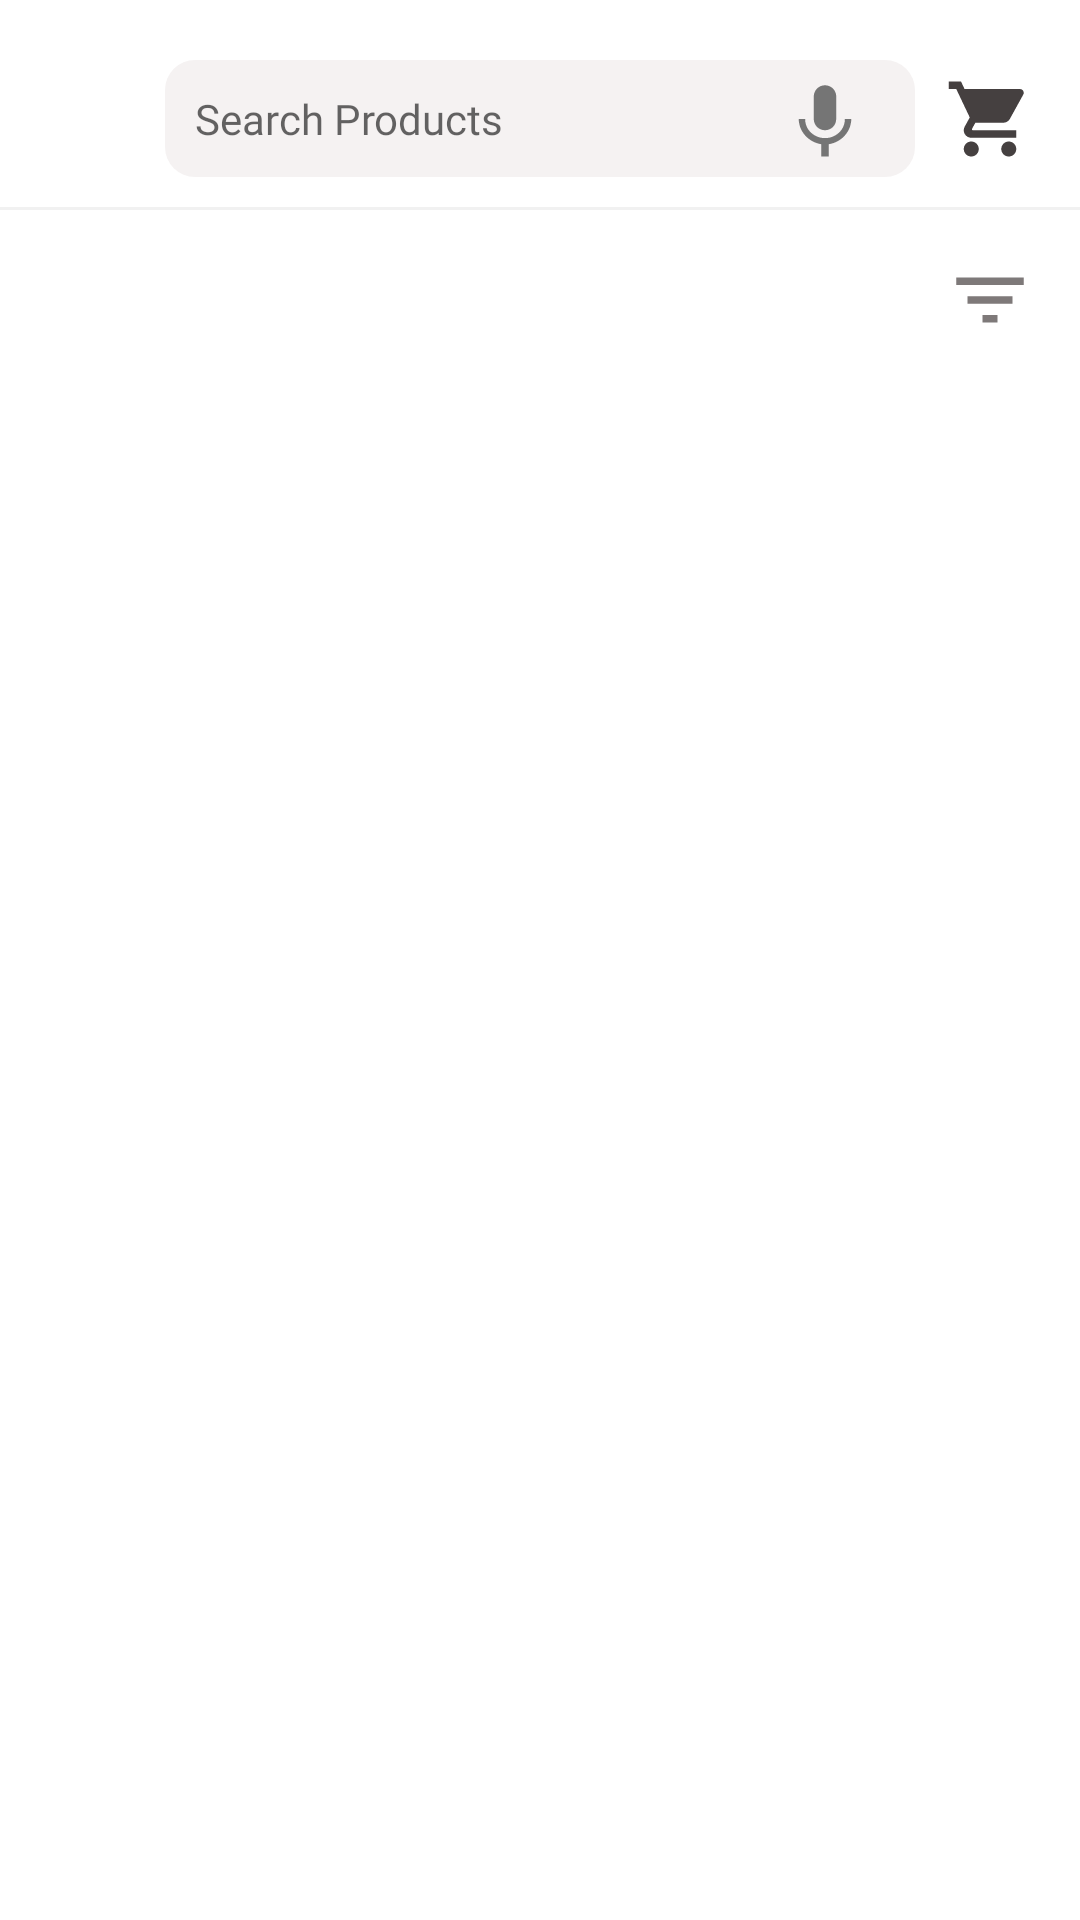

Icon bounding boxes for this 1080 × 1920 phone screenshot, format bbox=[x1, y1, x2, y2]:
filter list: bbox=[956, 277, 1024, 323]
mike: bbox=[798, 85, 852, 157]
shopping cart: bbox=[948, 81, 1024, 157]
